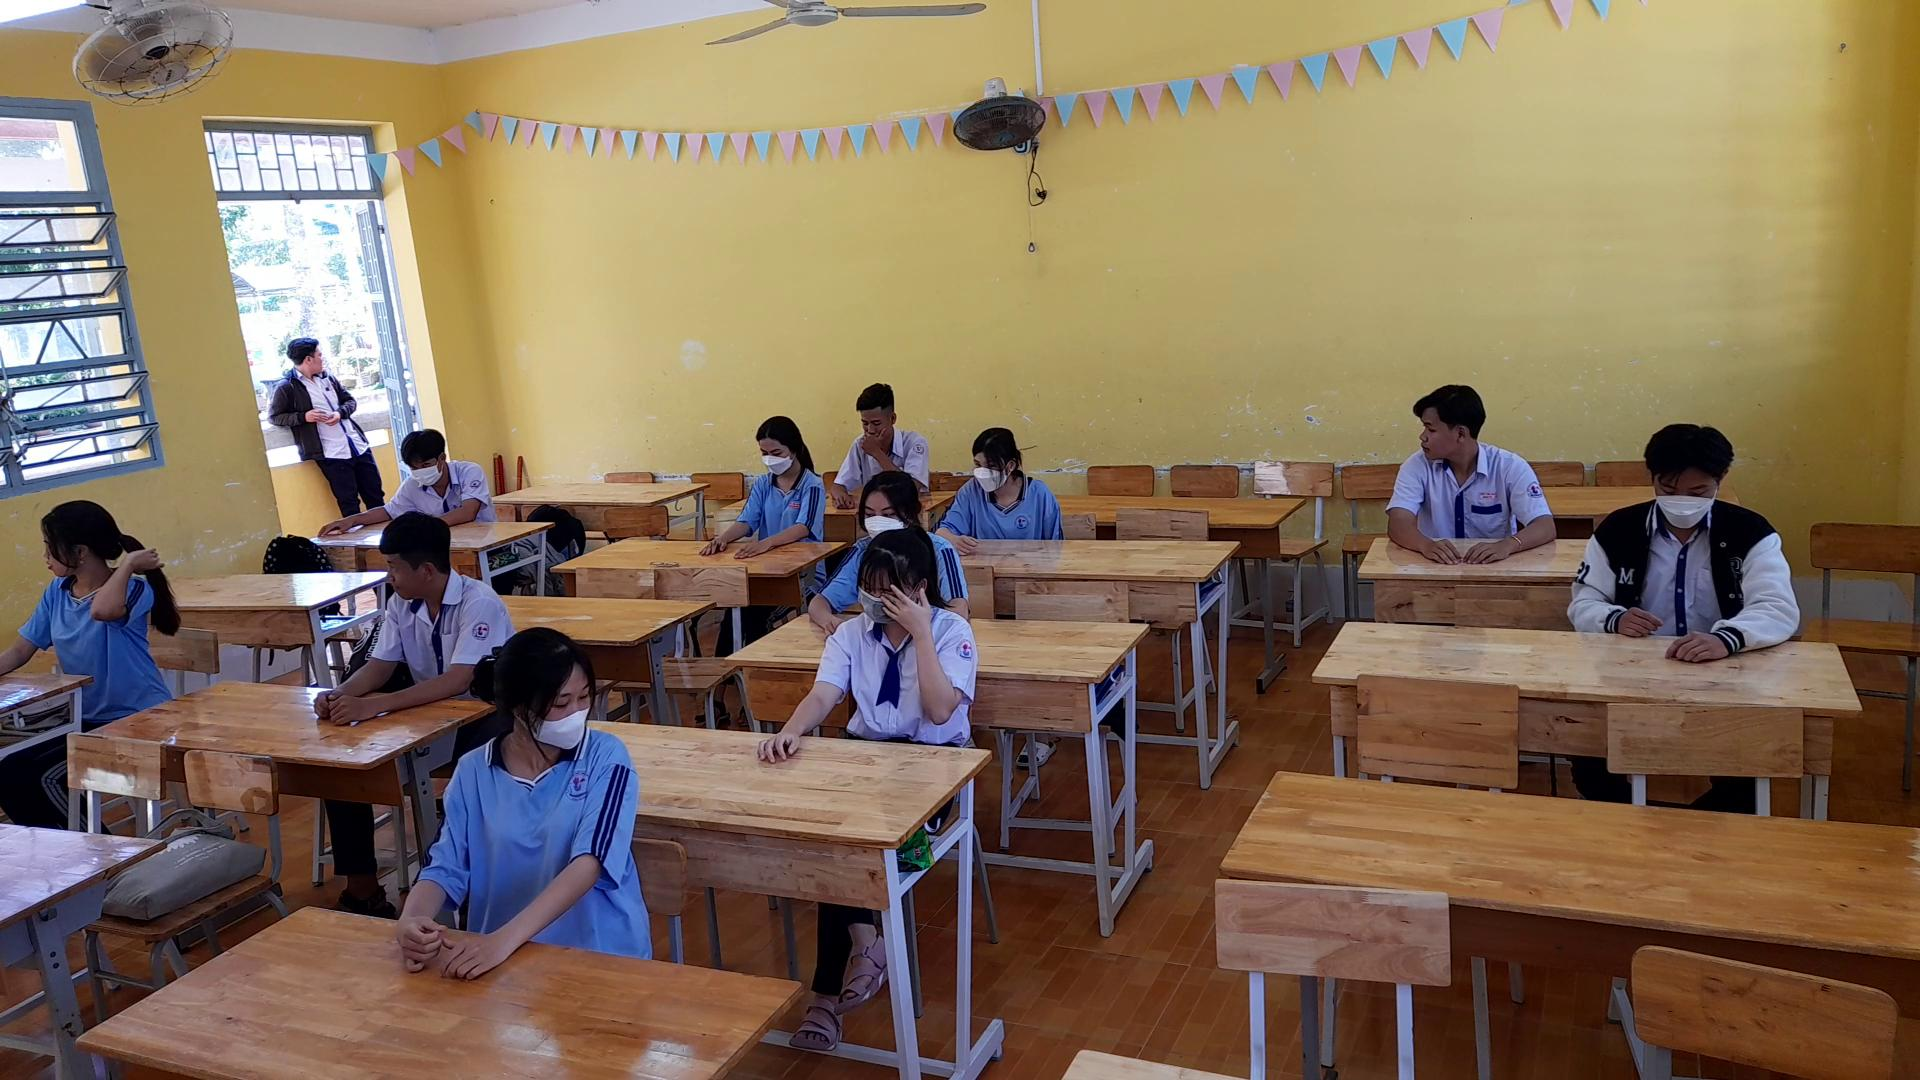Hand Under Table: (1029, 473, 1083, 547)
Look Around: (456, 617, 611, 765), (343, 501, 468, 621), (1382, 367, 1507, 487), (15, 487, 119, 588)
Normal: (1557, 404, 1807, 675), (684, 407, 832, 567), (390, 406, 491, 513)
Wave: (878, 578, 980, 728), (80, 535, 164, 632)
